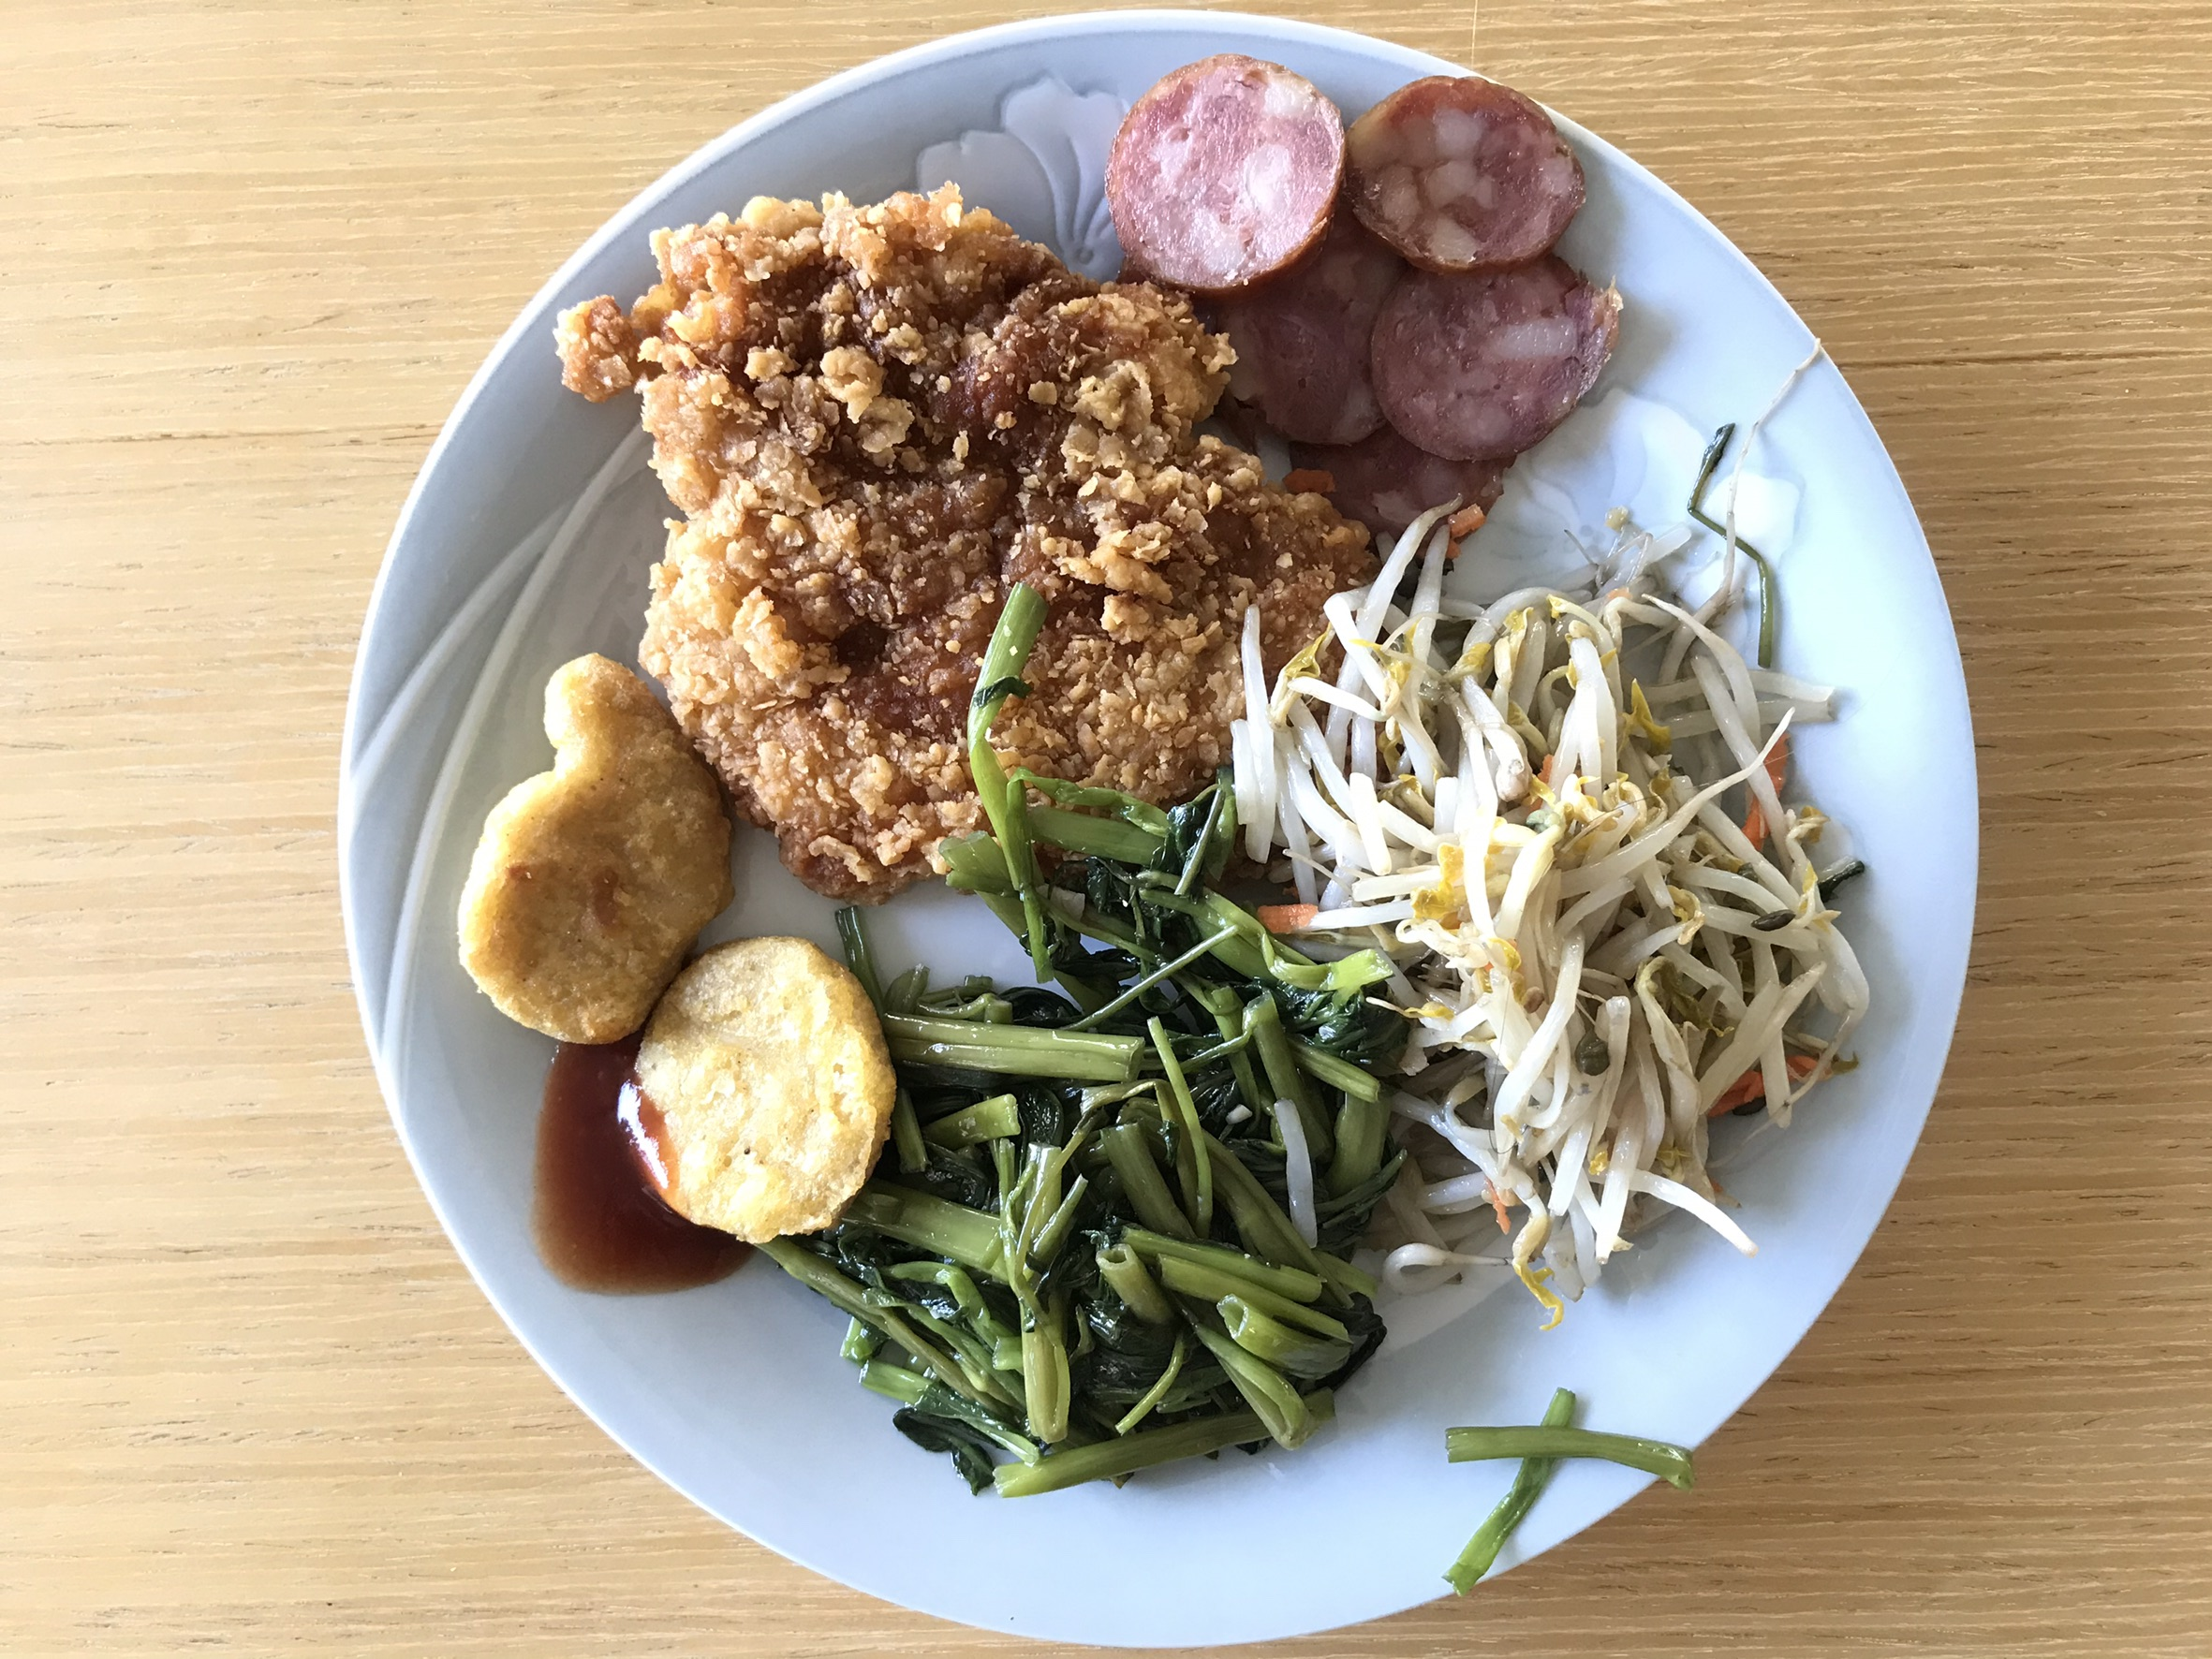chicken_nuggets: (462, 657, 887, 1244)
chinese_sausage: (1105, 58, 1616, 507)
fried_chicken: (636, 199, 1283, 901)
mung_bean_sprouts: (1283, 580, 1865, 1237)
water_spinach: (877, 953, 1386, 1490)
